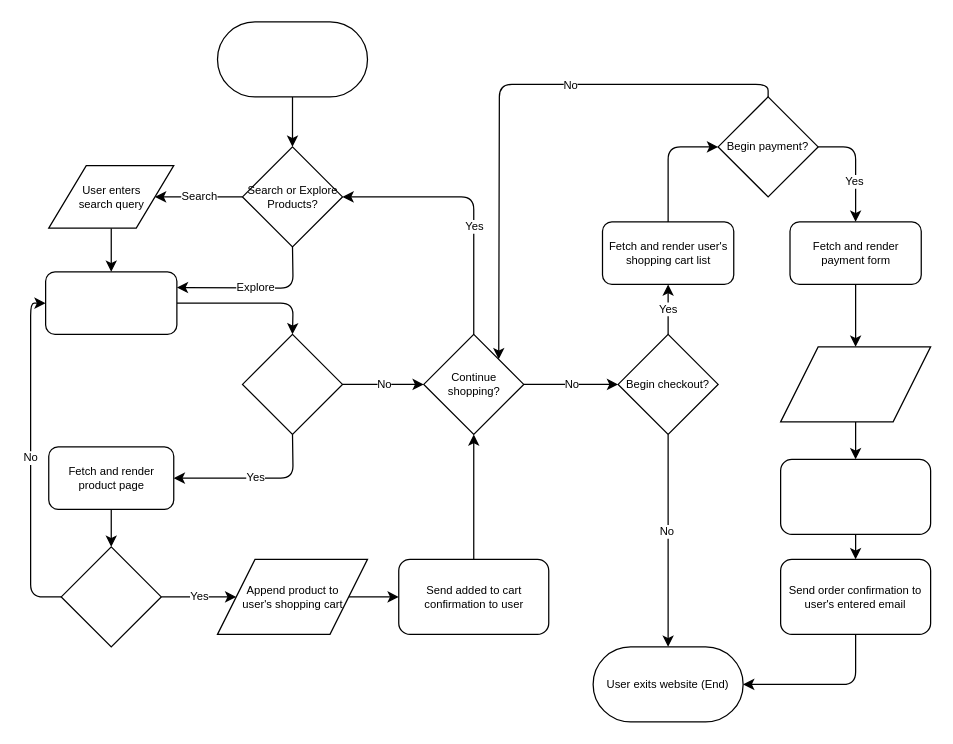
Image size: 953x744. Some labels were removed from this diagram. Here are the shapes that lost their labels. From the top down, the centre of each, then its label:
point (292, 59): User enters website (Start)
point (110, 302): Fetch and render product list
point (291, 383): View specific product?
point (855, 384): User fills in payment fields
point (855, 496): Render order confirmation screen
point (110, 596): Add product to cart?
